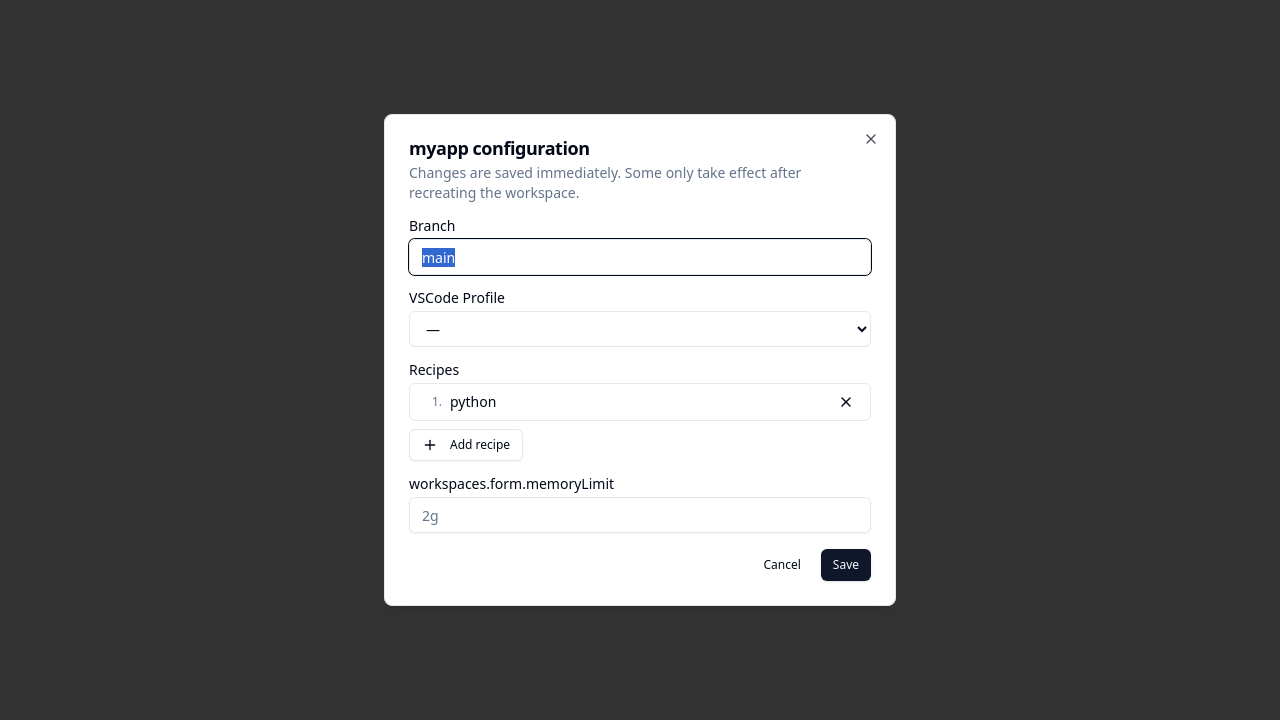
Scenario: WorkspaceEditDialog › avertit quand la modification exige une recréation
Click the button "Save": (846, 565) [821,549,871,581]
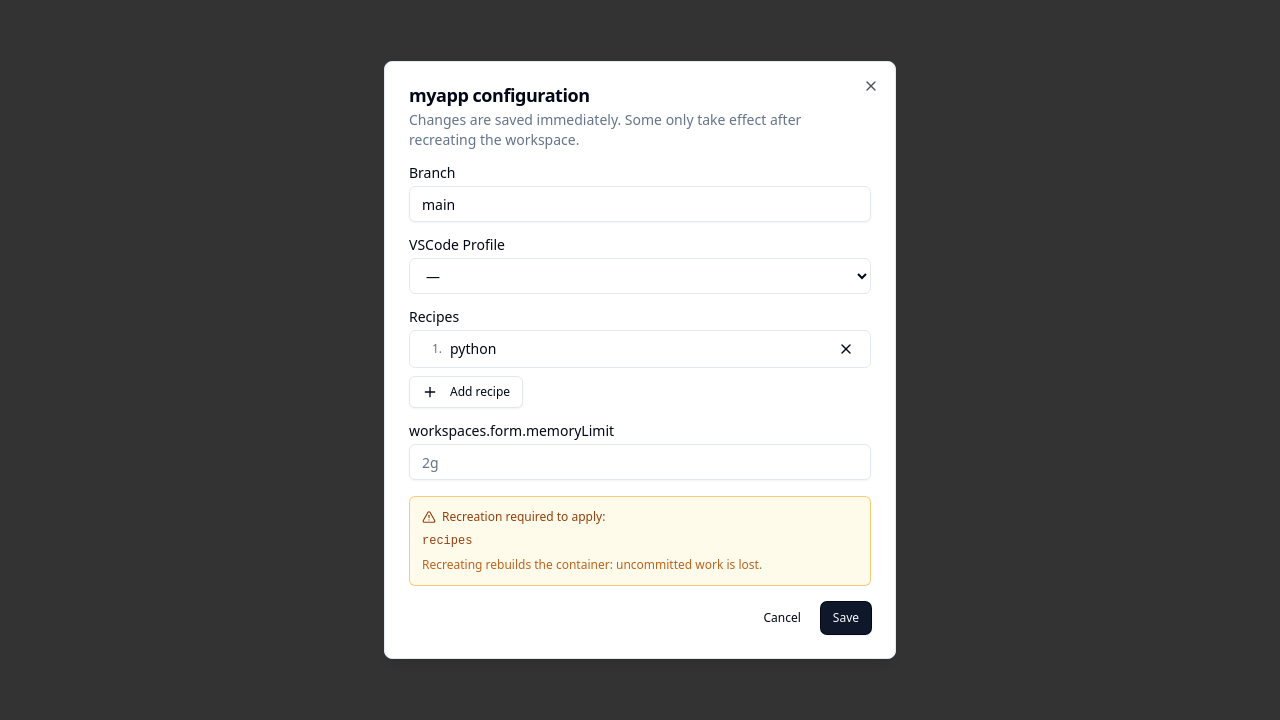
Check: the element with test id "edit-recreate-warning" shows "recipes", box [422,534,472,548]
